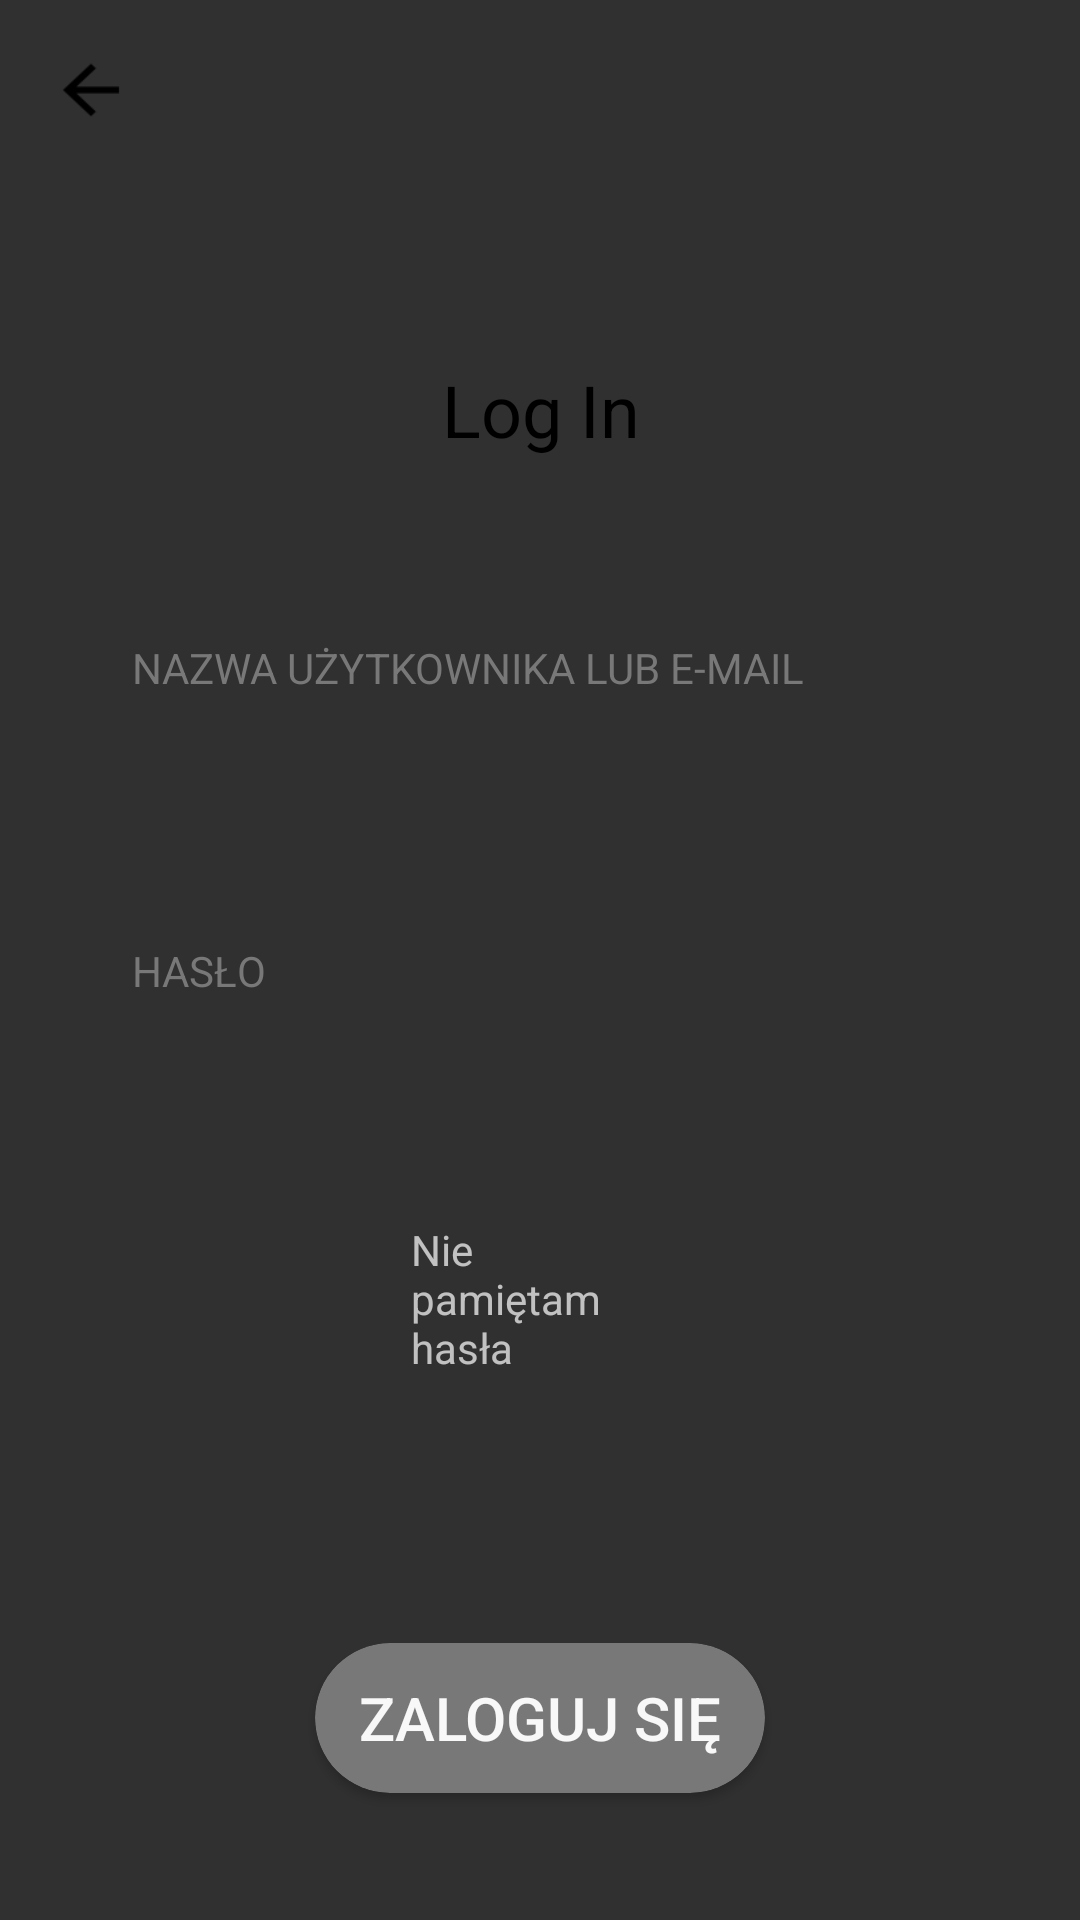

Where to tap for icons on this 1080x1920 app screen, as point (x, y):
back: point (91, 90)
